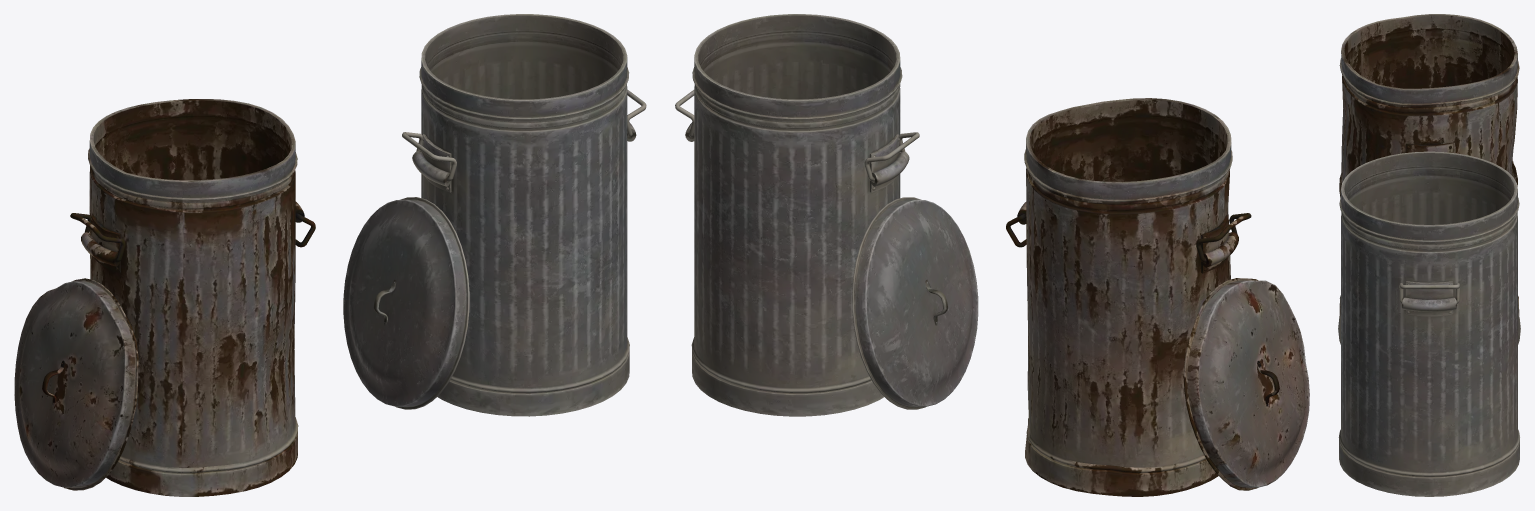
File: metal_trash_can.glb
3 renders of one model, left to right at view 1: azimuth 30°, elevation 25°; view 2: azimuth 150°, elevation 25°; view 3: azimuth 270°, elevation 25°, orthographic. The views are drawn at different scales.
Visible parts, largest first — view 1: metal_trash_can_handle_left, metal_trash_can_rust; view 2: metal_trash_can_handle_left, metal_trash_can_rust; view 3: metal_trash_can_handle_left, metal_trash_can_rust.
Part boxes in pixels (x1,y1,x2,y2): metal_trash_can_handle_left: (343,14,646,416); metal_trash_can_rust: (14,99,315,496); metal_trash_can_handle_left: (675,14,978,416); metal_trash_can_rust: (1006,98,1309,496); metal_trash_can_handle_left: (1338,151,1520,496); metal_trash_can_rust: (1339,14,1519,316).
Size of the model in its own units: 1.78 by 0.9062 by 0.5563.
2 materials, 2 textured.
